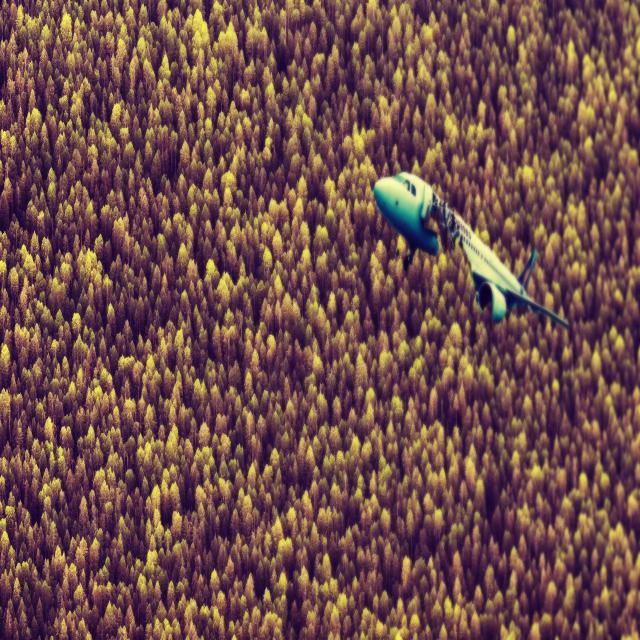airplane: (373, 170, 569, 330)
